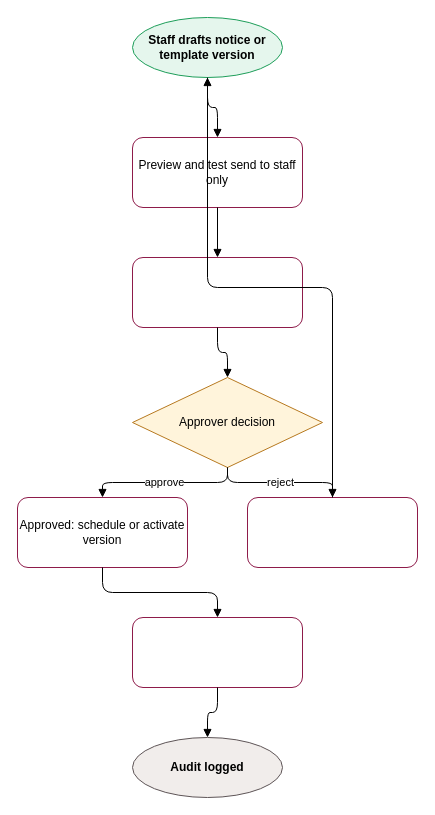
Some shapes in this 435 by 815 pixel diagram are drawn without their labels. The shapes that lost their labels are listed below. From the top down, each one's box as (x1, y1, x2, y2) in pixels, then its label:
(132, 256, 302, 328): Submit for approval
(246, 496, 418, 568): Rejected: return with comments
(132, 616, 302, 688): Send; record counts and delivery results
